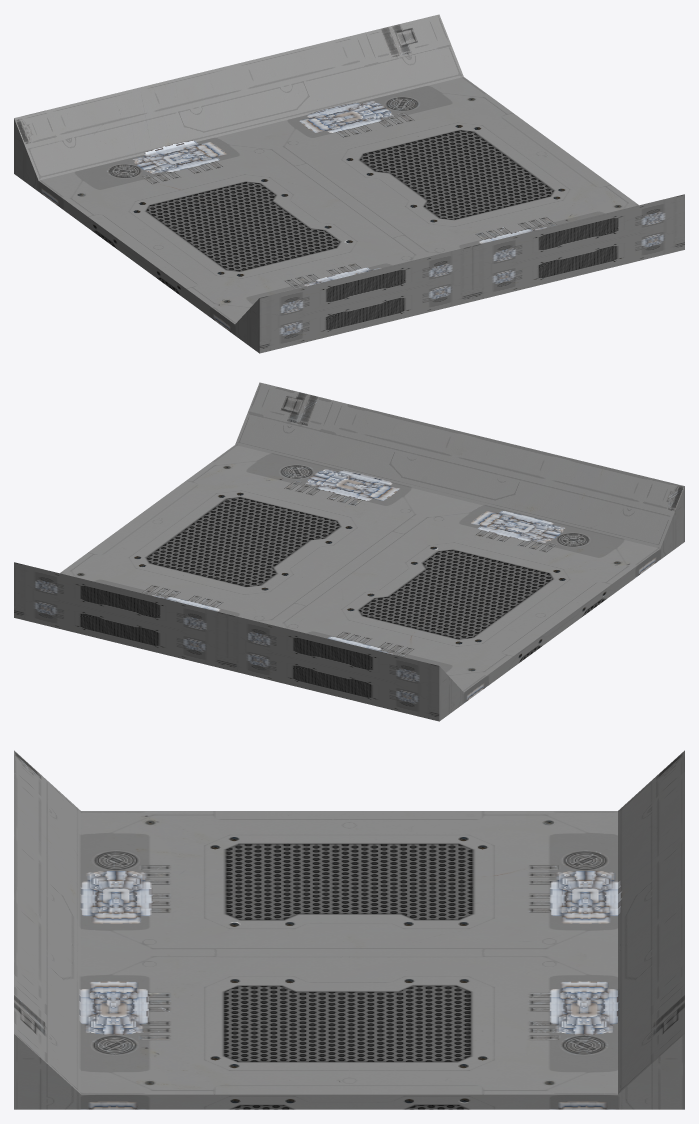
File: SM_CeilingS04.fbx
The picture shows the model from 3 angles, top to bottom: view 1: azimuth 30°, elevation 25°; view 2: azimuth 150°, elevation 25°; view 3: azimuth 270°, elevation 25°; orthographic projection. The views are drawn at different scales.
Visible parts, largest first — view 1: SM_CeilingS04_LOD0; view 2: SM_CeilingS04_LOD0; view 3: SM_CeilingS04_LOD0.
Boxes of the visible parts, x1,y1,x2,y2 form: SM_CeilingS04_LOD0: (14, 14, 684, 353); SM_CeilingS04_LOD0: (14, 382, 684, 721); SM_CeilingS04_LOD0: (14, 750, 684, 1109).
Size of the model in its own units: 400 by 400 by 50.
Materials: 1 (1 with a texture image).
